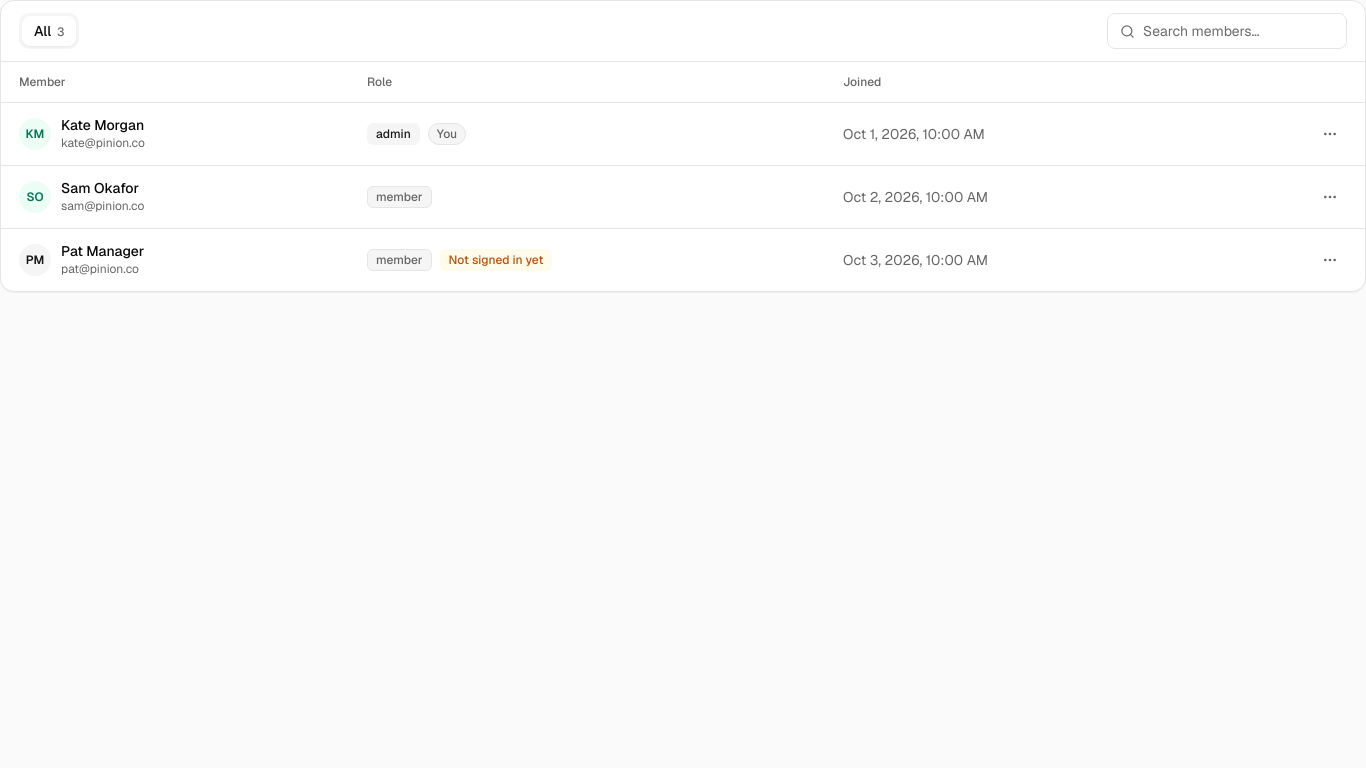
Test case: Members › #184: a member who has not signed in yet is marked so, and an admin sends them the invitation from their row
Expected: the text "Not signed in yet" is shown once, [440,249,552,271]
Click the button named "Actions for pat@pinion.co".
click(1330, 260)  # box [1313,243,1347,277]
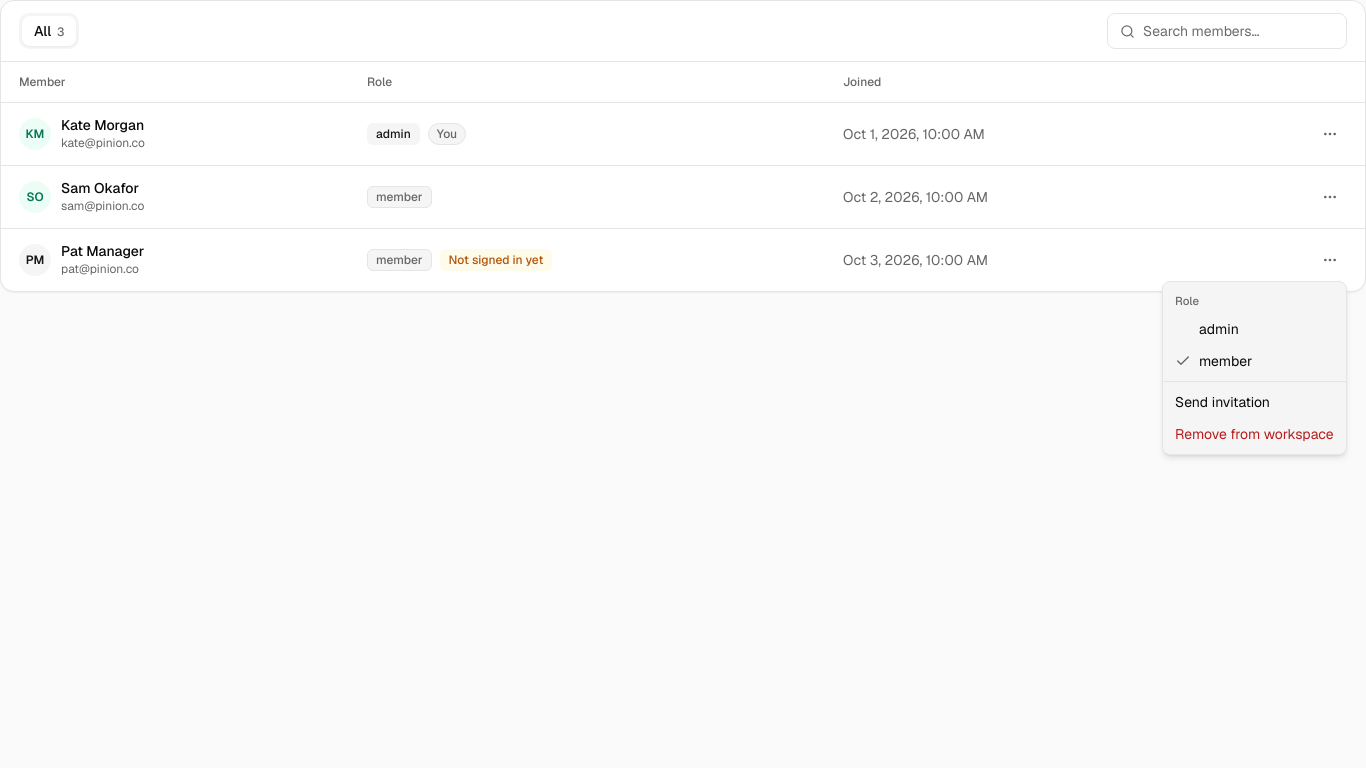
Click the menu item "Send invitation".
click(1222, 402)  # box [1175,393,1270,411]
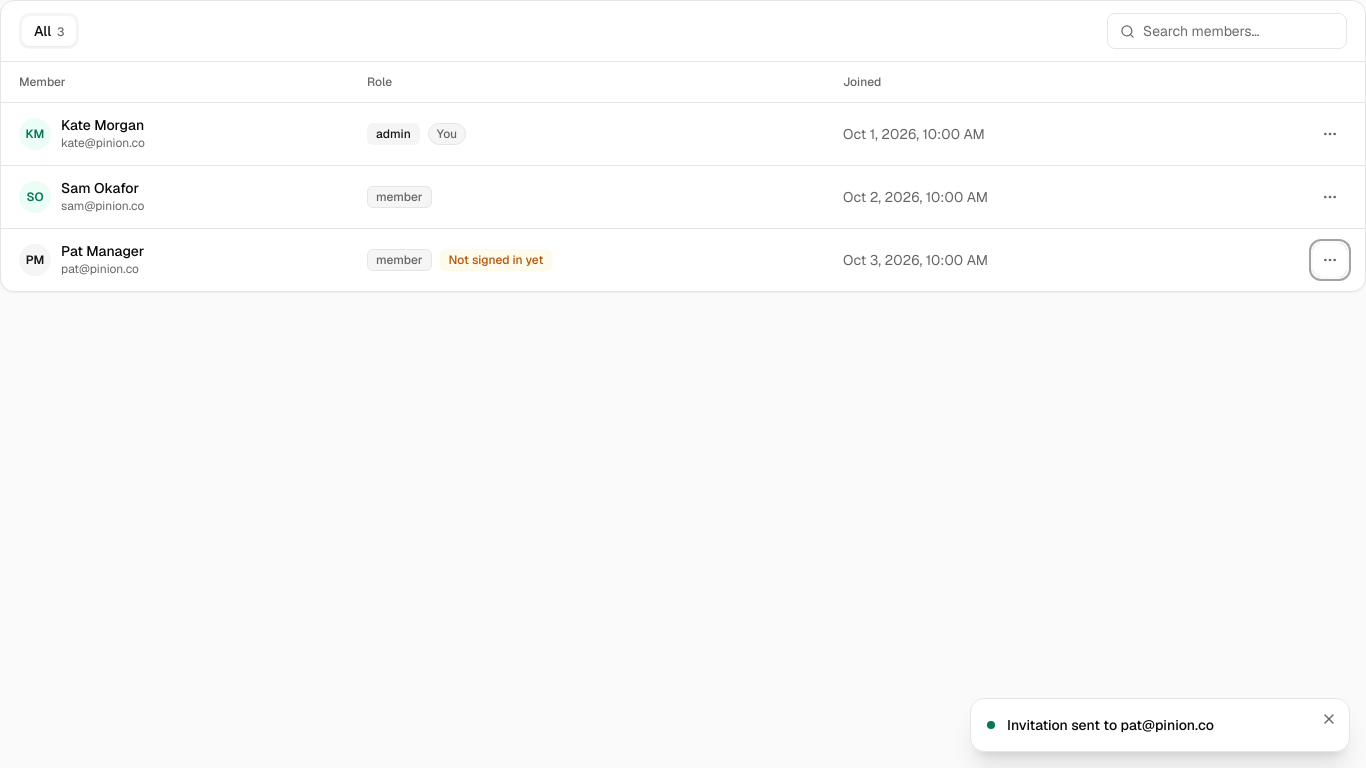
Now the text "Invitation sent to pat@pinion.co" is shown, box [1007,715,1214,735]
